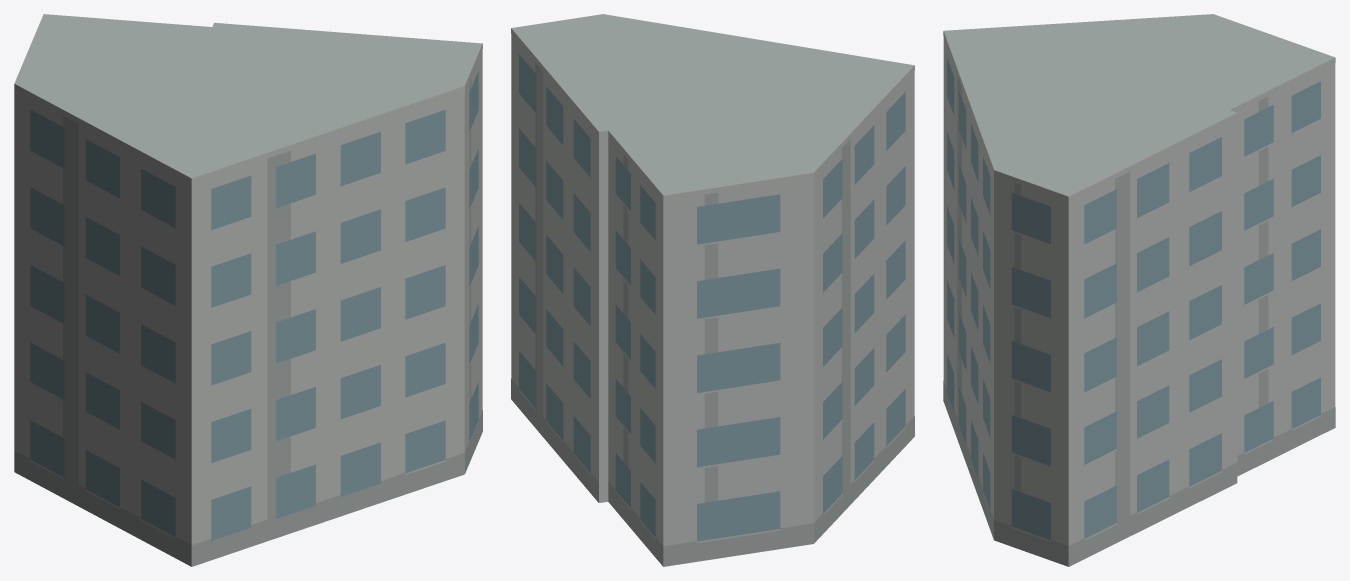
The model's file is survey-upis-32493762.glb.
The picture shows the model from 3 angles, left to right: view 1: azimuth 30°, elevation 25°; view 2: azimuth 150°, elevation 25°; view 3: azimuth 270°, elevation 25°; orthographic projection. The views are drawn at different scales.
Parts seen in each view (by area): view 1: survey-upis-32493762.tmp; view 2: survey-upis-32493762.tmp; view 3: survey-upis-32493762.tmp.
Boxes of the visible parts, x1,y1,x2,y2 form: survey-upis-32493762.tmp: [14, 14, 482, 566]; survey-upis-32493762.tmp: [511, 14, 914, 566]; survey-upis-32493762.tmp: [943, 14, 1335, 566].
Size of the model in its own units: 17.78 by 16.8 by 16.13.
